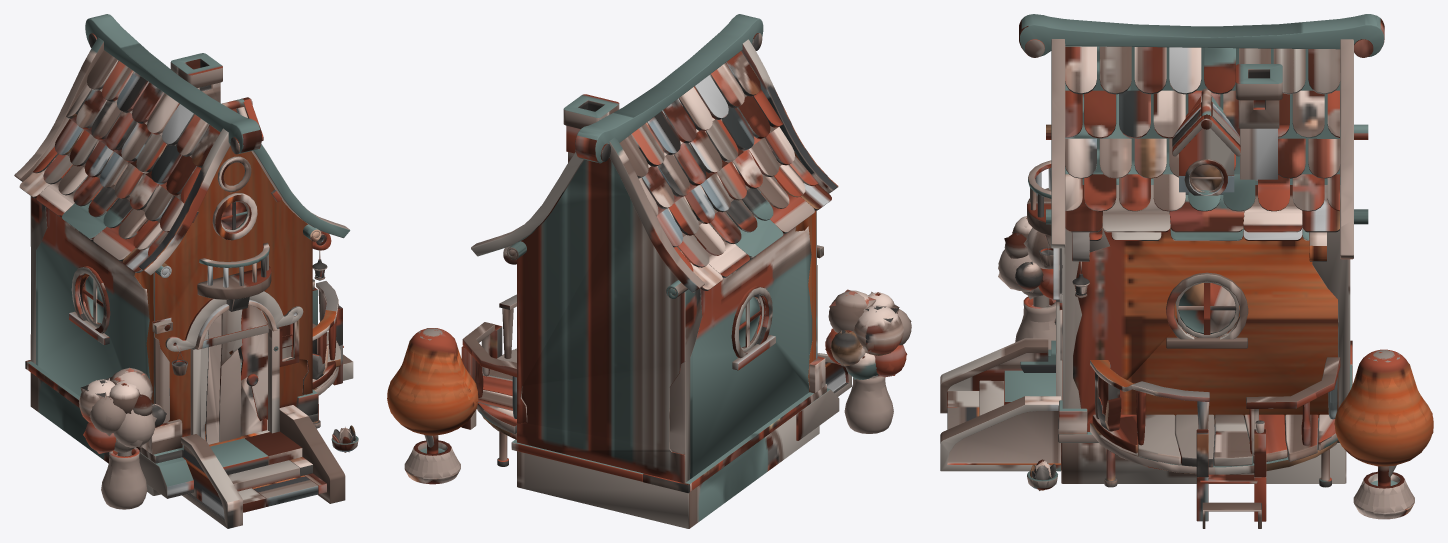
File: CartoonHouseFBX003_LODs.fbx
3 renders of one model, left to right at view 1: azimuth 30°, elevation 25°; view 2: azimuth 150°, elevation 25°; view 3: azimuth 270°, elevation 25°, orthographic. The views are drawn at different scales.
Visible parts, largest first — view 1: Cartoon_House_FBX003_LOD0, Sphere, Sphere_006, Sphere_002, Sphere_001, Sphere_004, Sphere_007; view 2: Cartoon_House_FBX003_LOD0, Sphere_012, Sphere_012.001, Sphere_012.002, Sphere_002, Sphere_001, Sphere_011, Sphere_002.001; view 3: Cartoon_House_FBX003_LOD0, Sphere_012, Sphere_012.001, Sphere_012.002.
Part boxes in pixels (x1,y1,x2,y2): Cartoon_House_FBX003_LOD0: (14,14,358,528); Sphere: (114,413,154,447); Sphere_006: (90,396,125,432); Sphere_002: (79,379,114,422); Sphere_001: (111,368,152,399); Sphere_004: (109,383,140,413); Sphere_007: (85,422,116,452); Cartoon_House_FBX003_LOD0: (404,14,893,528); Sphere_012: (387,328,478,435); Sphere_012.001: (387,328,477,435); Sphere_012.002: (387,328,478,435); Sphere_002: (854,305,903,355); Sphere_001: (829,291,868,332); Sphere_011: (831,330,865,365); Sphere_002.001: (853,305,903,354); Cartoon_House_FBX003_LOD0: (940,14,1414,528); Sphere_012: (1335,349,1433,466); Sphere_012.001: (1335,349,1433,465); Sphere_012.002: (1334,349,1433,466).
Size of what is drawn, in the model's own units: 17272 by 17834 by 19037.
